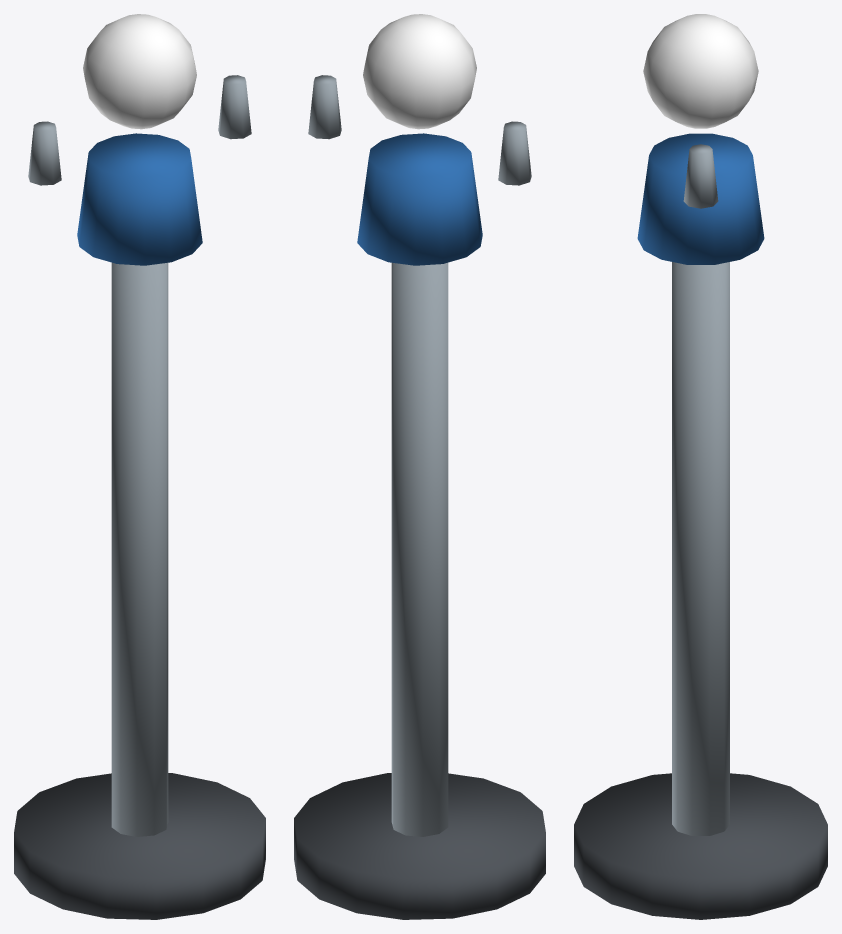
Rendered from sprinkler.glb.
The picture shows the model from 3 angles, left to right: view 1: azimuth 30°, elevation 25°; view 2: azimuth 150°, elevation 25°; view 3: azimuth 270°, elevation 25°; orthographic projection.
Parts seen in each view (by area): view 1: Body, Light; view 2: Body, Light; view 3: Body, Light.
Boxes of the visible parts, bbox=[...] form: Body: bbox=[14, 75, 265, 919]; Light: bbox=[83, 14, 196, 129]; Body: bbox=[294, 75, 545, 919]; Light: bbox=[363, 14, 476, 129]; Body: bbox=[574, 133, 827, 919]; Light: bbox=[643, 14, 758, 128].
Size of the model in its own units: 0.44 by 1.62 by 0.44.
